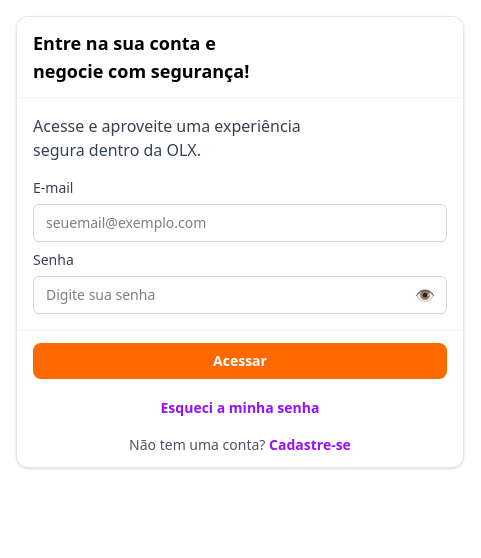
Login Component › deve exibir erro quando senha está vazia ao submeter
Type "teste@example.com" into the field with placeholder "seuemail@exemplo.com" at [240, 223], box [33,204,447,242]
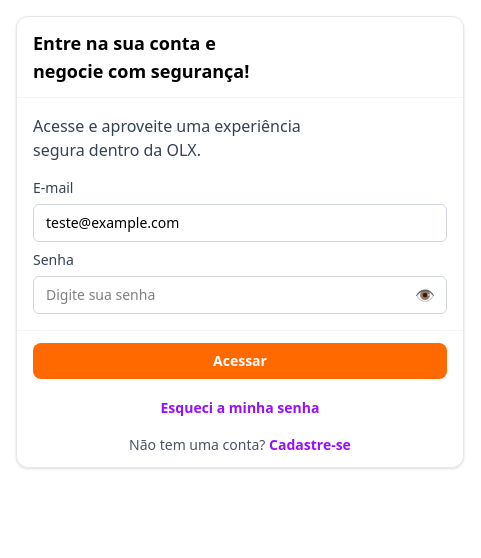
Click the button "Acessar" at [240, 361], box [33,343,447,379]
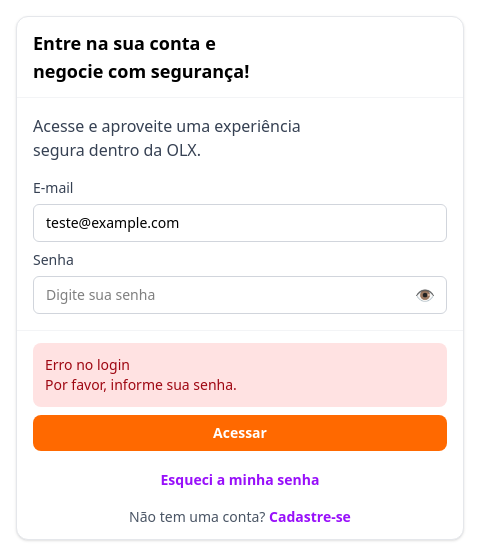
Check: the text "Por favor, informe sua senha." is shown, box [45,375,237,394]
